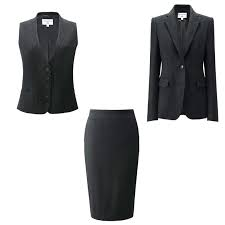F_tailored skirt: (76, 106, 146, 224)
